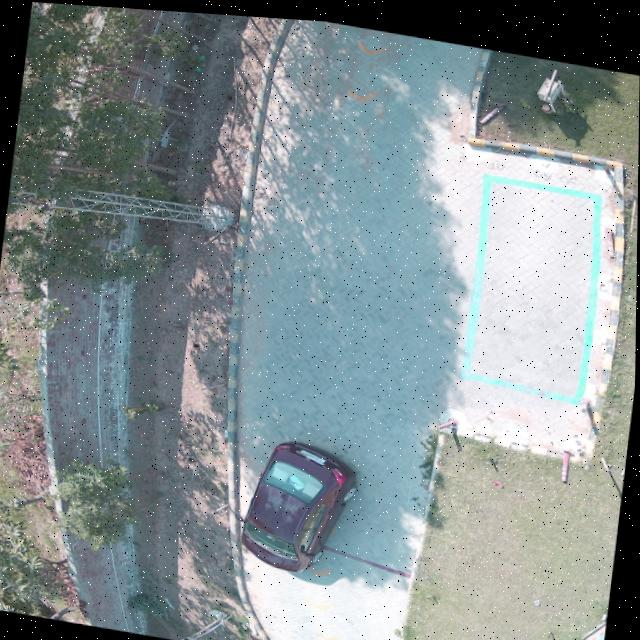car: (246, 434, 359, 569)
